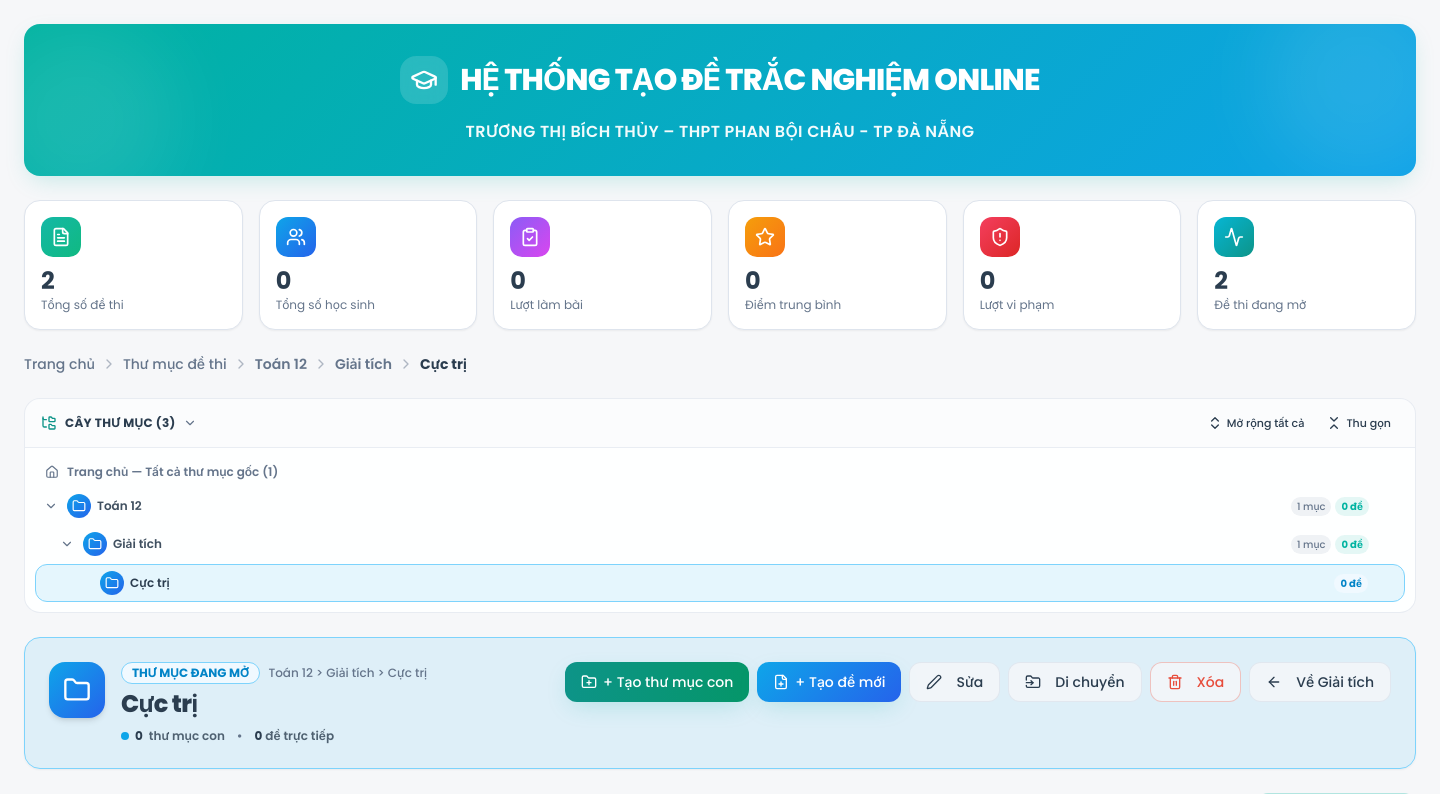
it: HỆ THỐNG QUẢN LÝ THƯ MỤC NHIỀU CẤP & TẠO ĐỀ TRONG THƯ MỤC CON › 3. Giao diện nhiều cấp, Breadcrumb, Cây thư mục, Modals & Tạo đề trong thư mục con › 3.2. Click phần tử cha trên Breadcrumb nhảy ngược về đúng cấp cha
expect the navigation bar named "Breadcrumb" shows "Cực trị": met, box top-left (420, 354), bottom-right (467, 374)
Click the button "Toán 12" at (281, 364), box top-left (255, 354), bottom-right (307, 374)
(page scrolled)
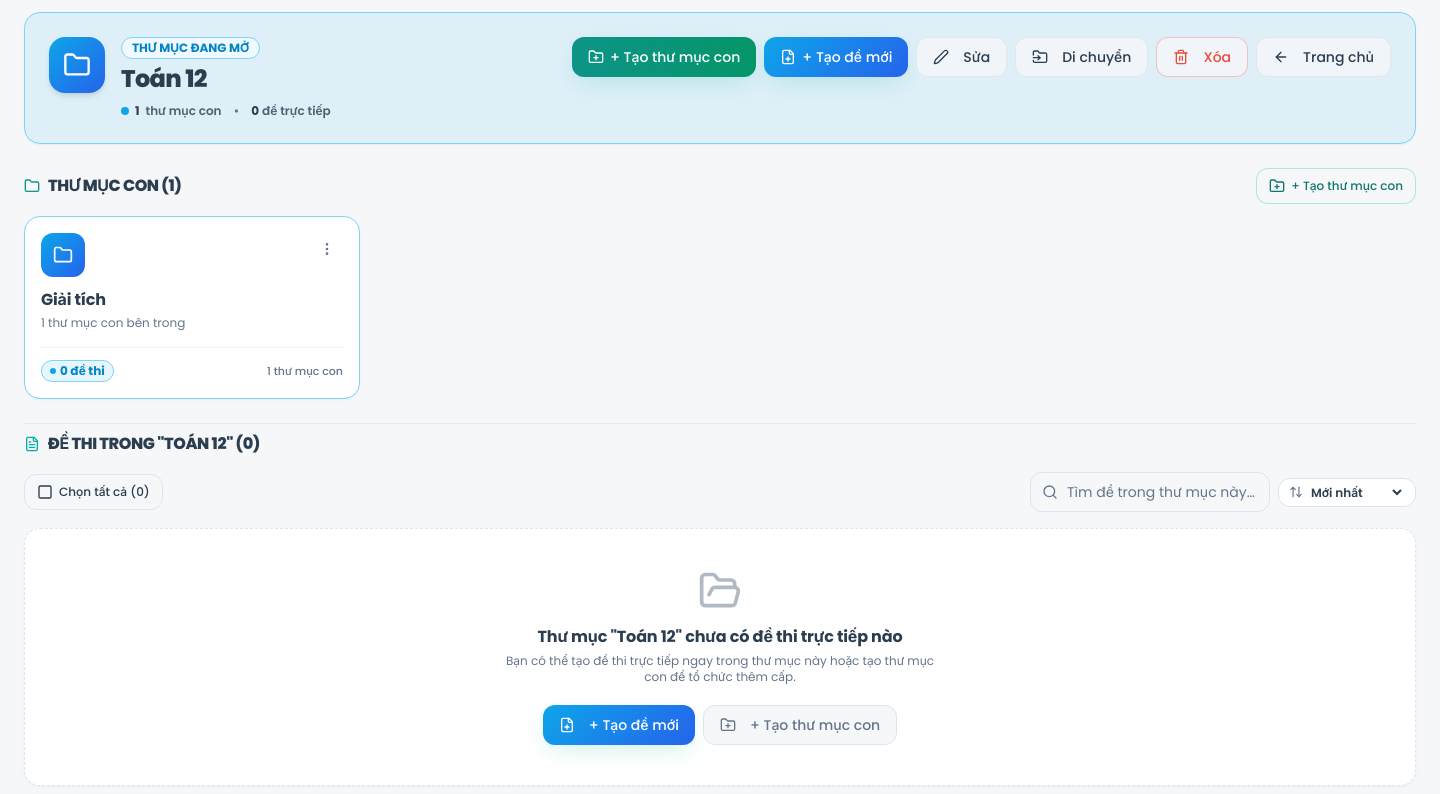
expect the heading "Đề thi trong \"Toán 12\" (0)" is shown: met, box top-left (48, 432), bottom-right (260, 456)
